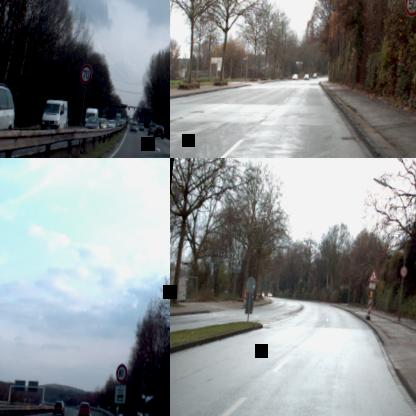CONSTRUCTION: (368, 266, 379, 283)
speed limit 50: (402, 0, 416, 17), (400, 265, 408, 278)
speed limit 70: (78, 62, 92, 85)
speed limit 80: (114, 362, 128, 384)
